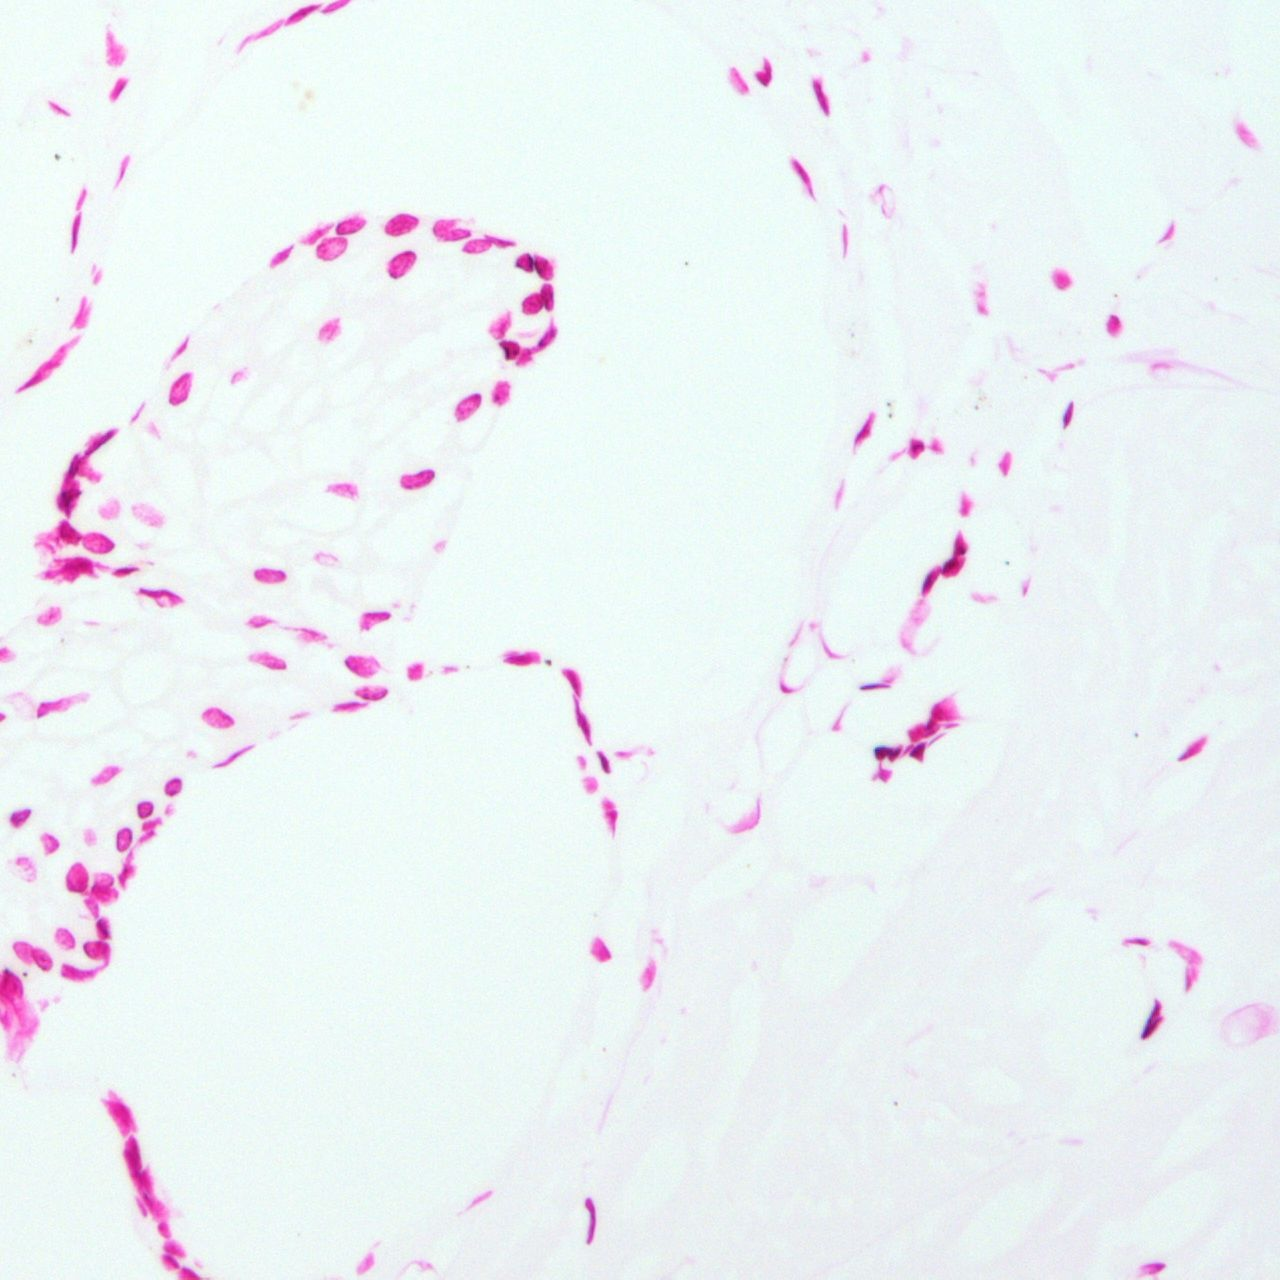dust: (1133, 731, 1139, 737), (974, 406, 979, 410), (888, 413, 892, 418), (1114, 293, 1118, 297), (886, 402, 890, 406)
nucleus-FG: (1139, 999, 1169, 1043), (82, 425, 117, 457), (1178, 733, 1210, 765), (53, 481, 83, 515), (52, 518, 83, 549), (938, 550, 967, 581), (788, 154, 813, 186), (915, 566, 940, 599), (811, 77, 831, 115), (7, 802, 33, 830), (535, 324, 559, 352), (908, 738, 934, 764), (400, 470, 433, 489), (360, 610, 390, 629), (66, 452, 84, 478), (69, 213, 81, 253), (755, 60, 772, 84), (95, 915, 113, 939), (256, 568, 285, 583), (506, 651, 538, 663), (874, 745, 901, 760), (540, 282, 554, 309), (1062, 399, 1075, 425), (501, 341, 519, 359), (597, 749, 611, 772), (117, 829, 131, 851), (137, 801, 154, 818), (517, 253, 533, 270), (908, 440, 922, 458), (954, 536, 966, 554), (860, 682, 888, 689), (1109, 314, 1118, 333), (685, 261, 688, 265)
